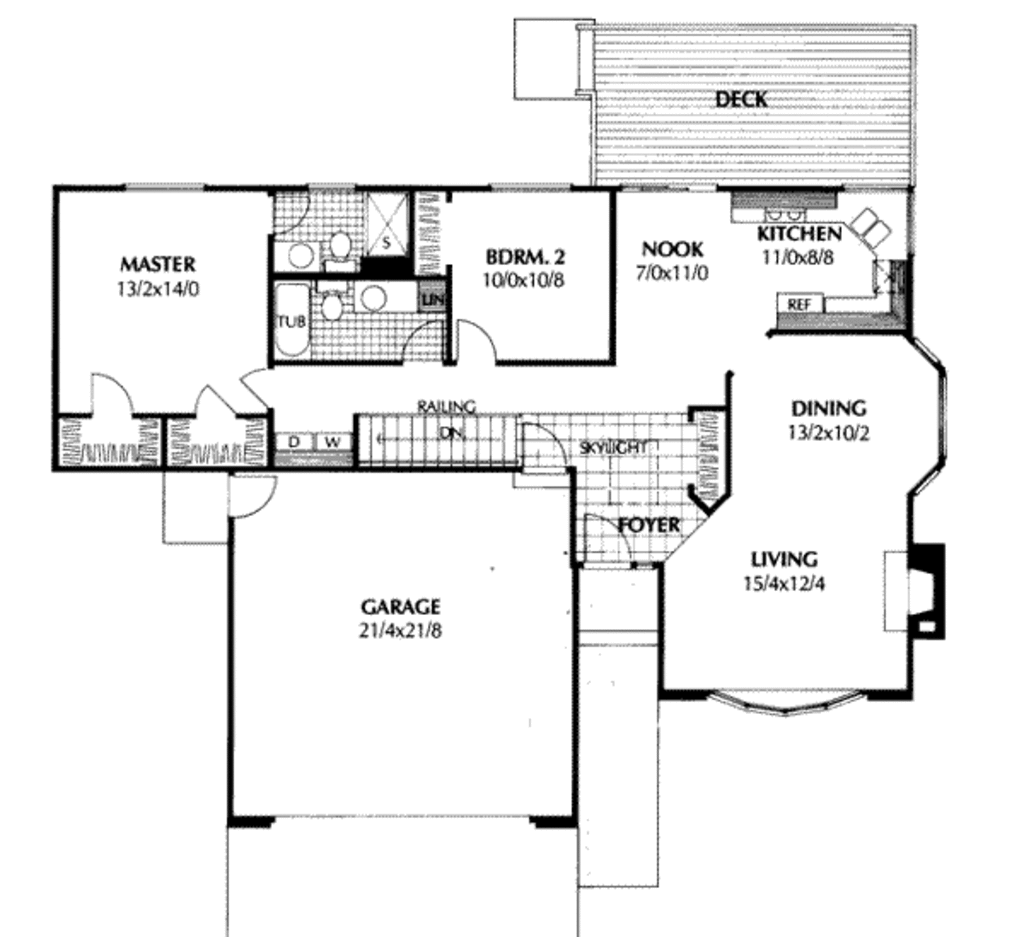door: (516, 422, 582, 490), (572, 509, 637, 571), (84, 369, 147, 423), (389, 312, 445, 369), (452, 316, 507, 369), (180, 380, 239, 420), (229, 475, 282, 517), (242, 366, 284, 412)
kitchen_bar: (722, 187, 849, 228)
large_sink: (310, 280, 356, 322), (322, 233, 360, 275)
small_sink: (264, 232, 330, 271), (353, 283, 425, 313)
tub: (267, 281, 319, 359)
twin_sink: (848, 193, 895, 259)
window: (705, 685, 880, 715), (119, 175, 209, 197), (486, 180, 578, 201)
